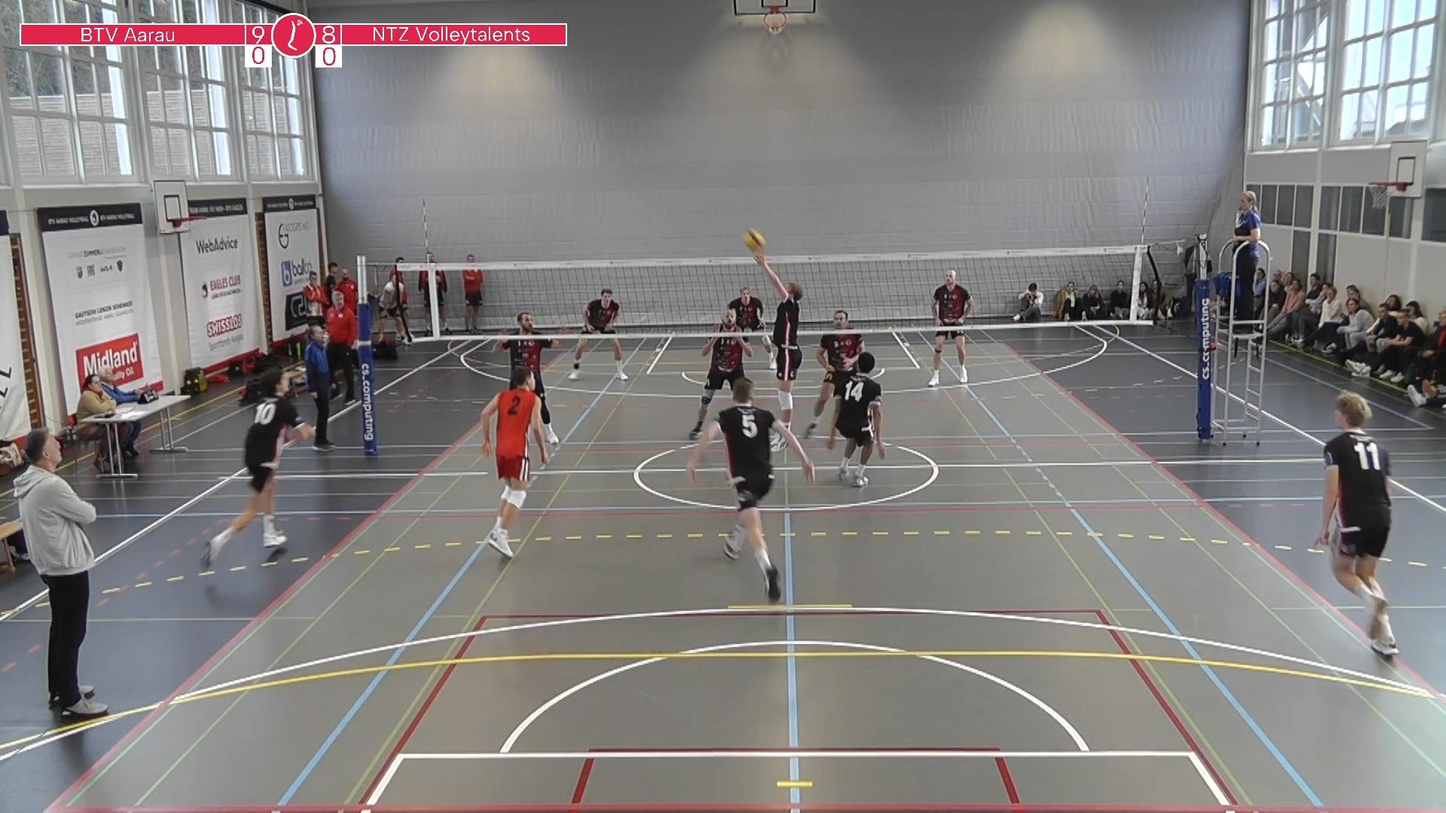alzata: (749, 252, 803, 452)
